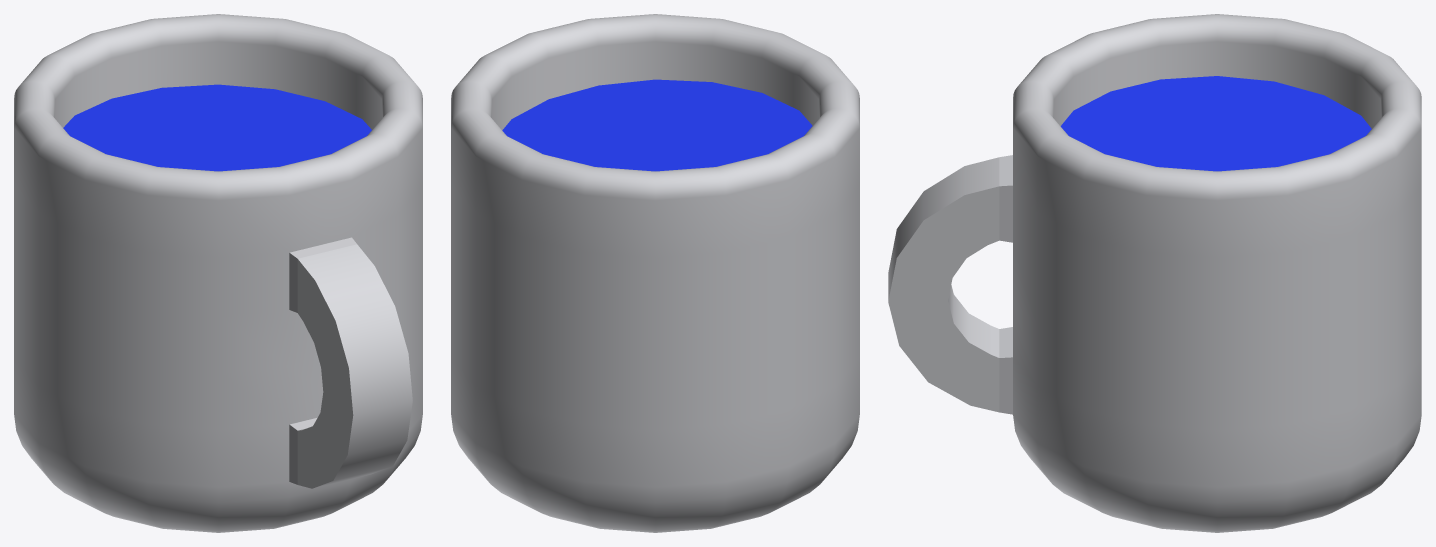
The model's file is tasse.fbx.
3 renders of one model, left to right at view 1: azimuth 30°, elevation 25°; view 2: azimuth 150°, elevation 25°; view 3: azimuth 270°, elevation 25°, orthographic.
Parts seen in each view (by area): view 1: Line001, Cylinder001; view 2: Line001, Cylinder001; view 3: Line001, Cylinder001.
Part boxes in pixels (<box>): Line001: <box>14,14,422,532</box>; Cylinder001: <box>63,84,371,171</box>; Line001: <box>451,14,859,532</box>; Cylinder001: <box>502,79,812,171</box>; Line001: <box>888,14,1421,532</box>; Cylinder001: <box>1060,76,1371,171</box>.
Bounding box in the file's own units: 100 × 100 × 129.
